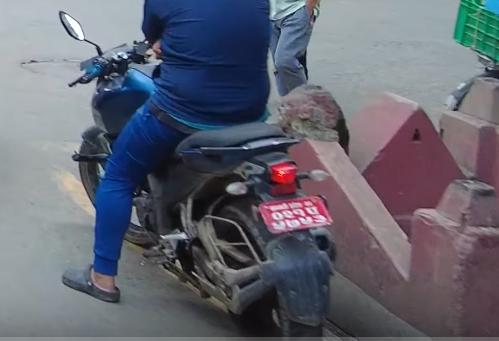bike: (51, 7, 343, 341)
